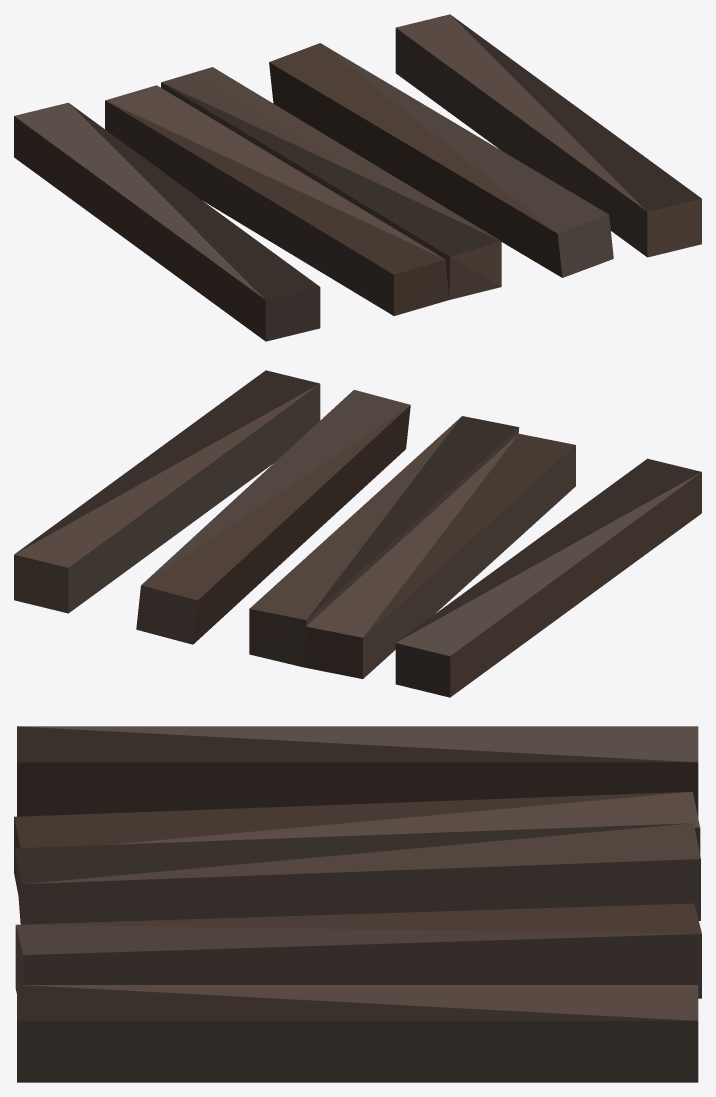
The model's file is Floor_WoodCLOD1.fbx.
The picture shows the model from 3 angles, top to bottom: view 1: azimuth 30°, elevation 25°; view 2: azimuth 150°, elevation 25°; view 3: azimuth 270°, elevation 25°; orthographic projection. The views are drawn at different scales.
Visible parts, largest first — view 1: Floor_WoodCLOD1; view 2: Floor_WoodCLOD1; view 3: Floor_WoodCLOD1.
Part boxes in pixels (<box>): Floor_WoodCLOD1: <box>14,14,701,341</box>; Floor_WoodCLOD1: <box>14,370,701,697</box>; Floor_WoodCLOD1: <box>14,726,701,1082</box>.
Size of the model in its own units: 250 by 28.8 by 252.
